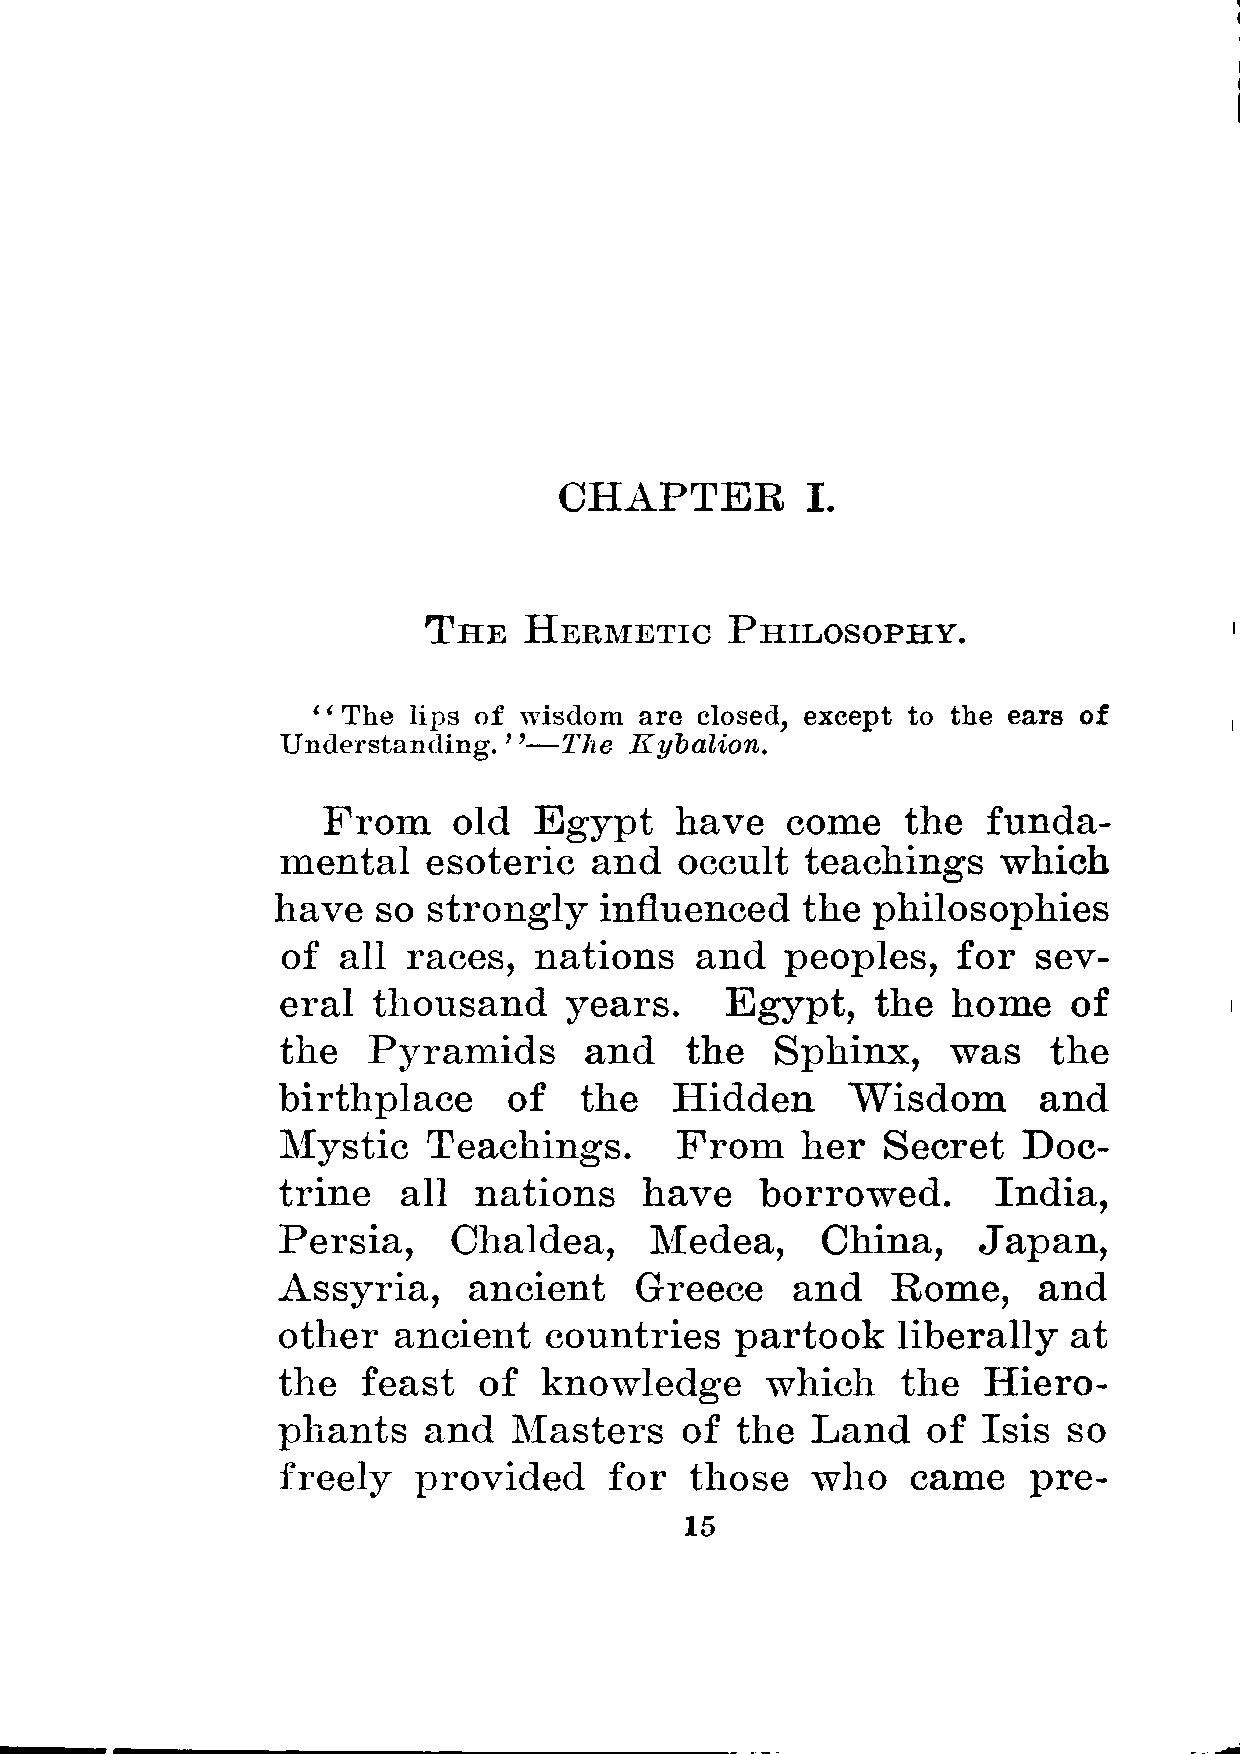chapter: (421, 478, 965, 651)
content: (271, 701, 1117, 1502)
content_pagenumber: (676, 1511, 721, 1539)
